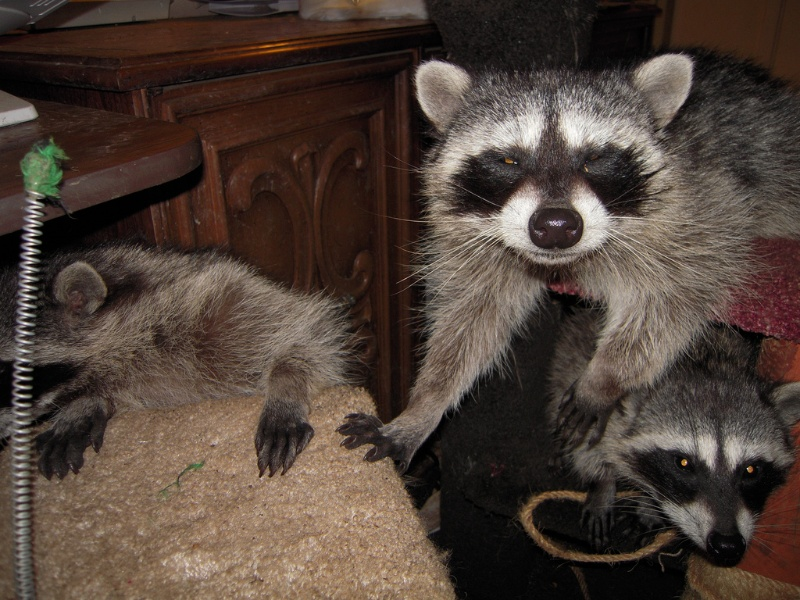raccoon: (339, 30, 796, 471), (1, 244, 347, 480), (547, 301, 797, 567)
